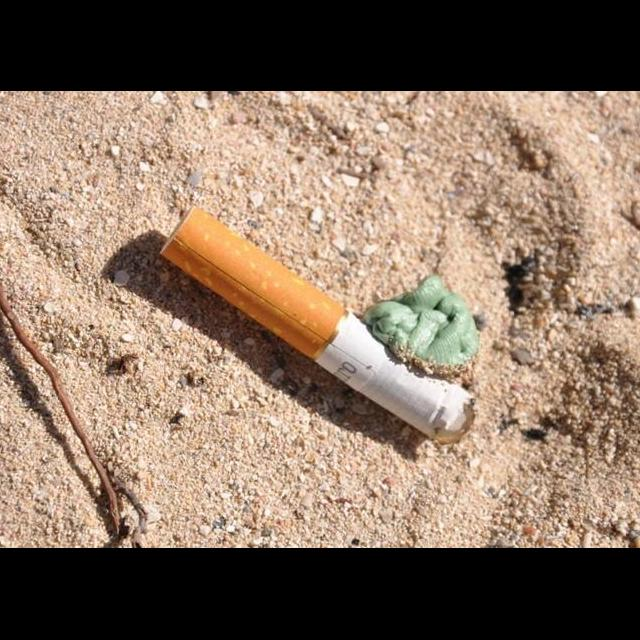Cigarette Butt: (157, 205, 477, 448)
